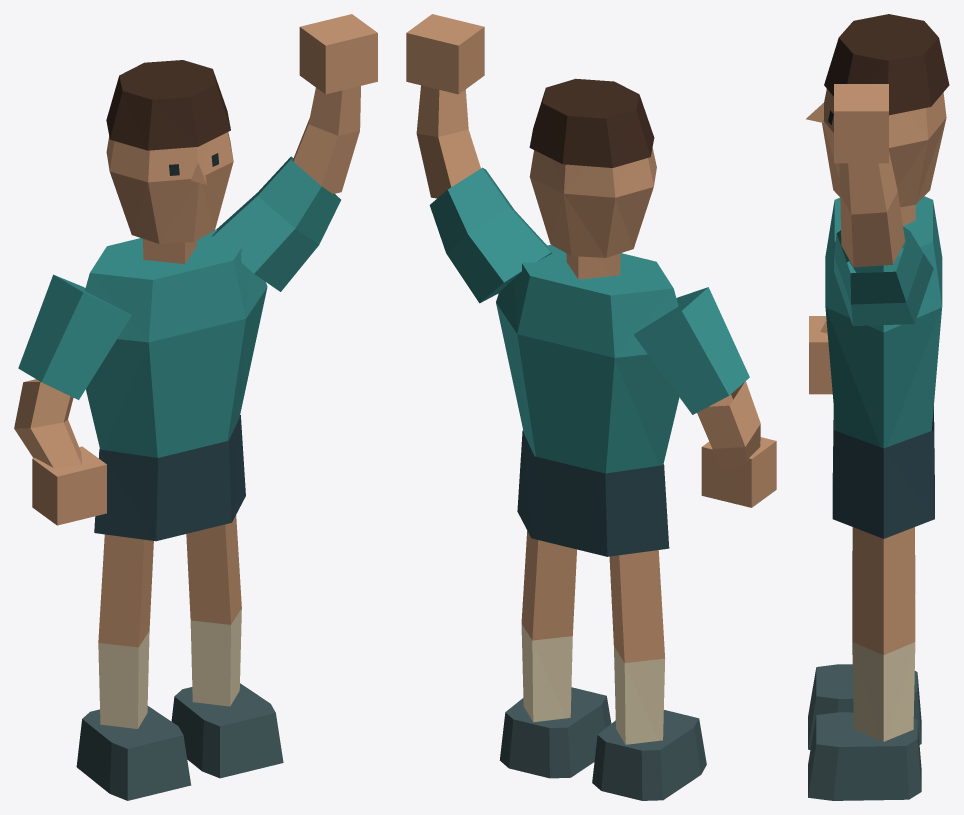
File: fan.glb
3 renders of one model, left to right at view 1: azimuth 30°, elevation 25°; view 2: azimuth 150°, elevation 25°; view 3: azimuth 270°, elevation 25°, orthographic. The views are drawn at different scales.
Visible parts, largest first — view 1: Bolzhausen Fan; view 2: Bolzhausen Fan; view 3: Bolzhausen Fan.
Boxes of the visible parts, left/top/right/bottom form: Bolzhausen Fan: left=14, top=14, right=377, bottom=800; Bolzhausen Fan: left=406, top=14, right=776, bottom=800; Bolzhausen Fan: left=806, top=14, right=949, bottom=800.
Bounding box in the file's own units: 0.99 × 1.94 × 0.342.
